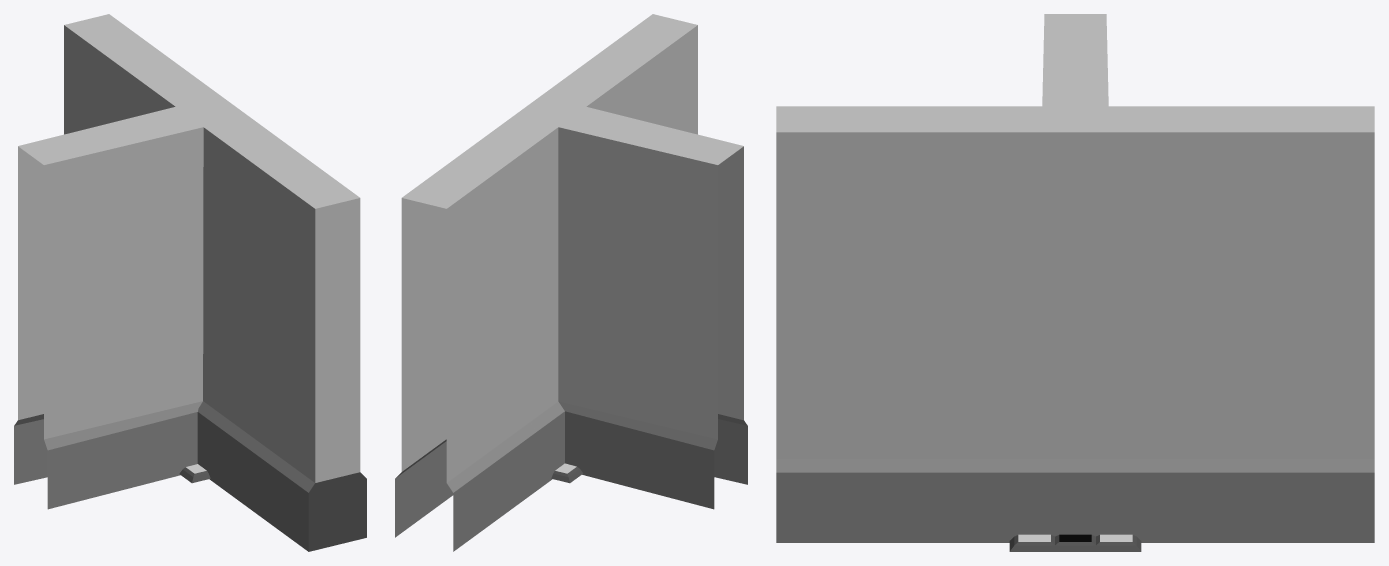
The model's file is EstruturaFisica.fbx.
3 renders of one model, left to right at view 1: azimuth 30°, elevation 25°; view 2: azimuth 150°, elevation 25°; view 3: azimuth 270°, elevation 25°, orthographic. The views are drawn at different scales.
Visible parts, largest first — view 1: parede.L, parede.Oca, parede.Oca-+; view 2: parede.L, parede.Oca; view 3: parede.Oca, parede.L, Preto.Branco.
Boxes of the visible parts, x1,y1,x2,y2 form: parede.L: (14, 14, 247, 509); parede.Oca: (64, 14, 359, 551); parede.Oca-+: (308, 198, 366, 551); parede.L: (395, 95, 747, 551); parede.Oca: (395, 14, 697, 551); parede.Oca: (776, 106, 1374, 542); parede.L: (1042, 14, 1374, 542); Preto.Branco: (1009, 534, 1141, 551).
Bounding box in the file's own units: 211 × 300 × 400.
